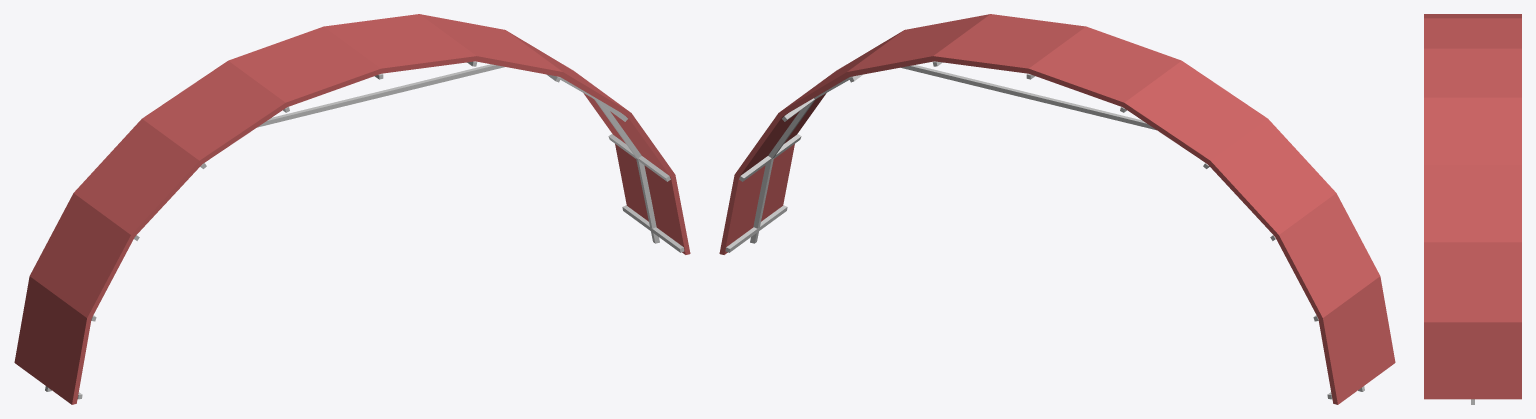
Rendered from SM_large_greenhouse_1.fbx.
3 renders of one model, left to right at view 1: azimuth 30°, elevation 25°; view 2: azimuth 150°, elevation 25°; view 3: azimuth 270°, elevation 25°, orthographic. The views are drawn at different scales.
Parts seen in each view (by area): view 1: Cube_7; view 2: Cube_7; view 3: Cube_7.
Part boxes in pixels (bbox=[...]): Cube_7: bbox=[14, 14, 690, 404]; Cube_7: bbox=[719, 14, 1395, 404]; Cube_7: bbox=[1424, 14, 1521, 404].
Bounding box in the file's own units: 931 × 387 × 150.
